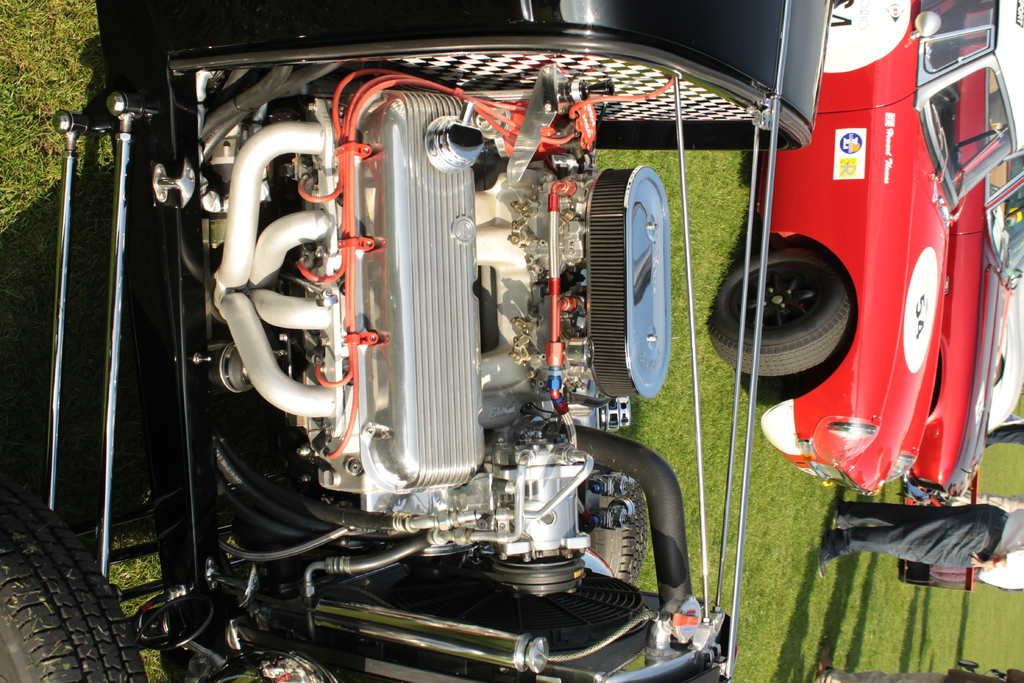Car: (1, 0, 835, 682), (707, 0, 1023, 501), (903, 154, 1023, 502), (991, 285, 1023, 436)
